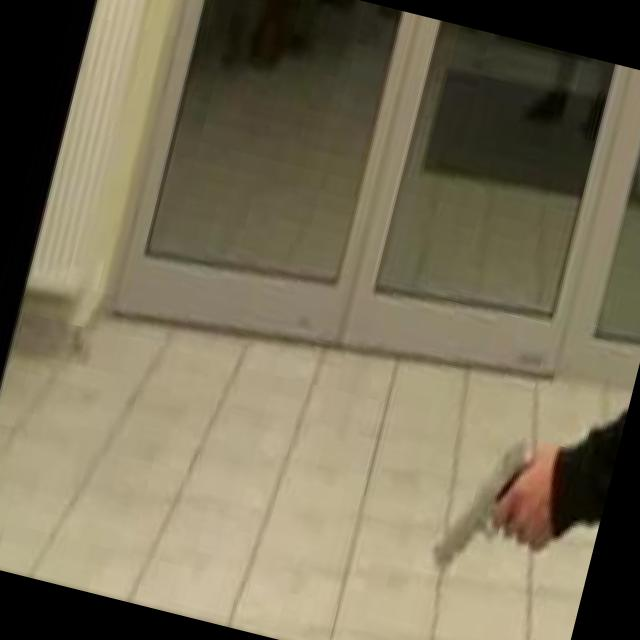Guns: (411, 402, 570, 605)
